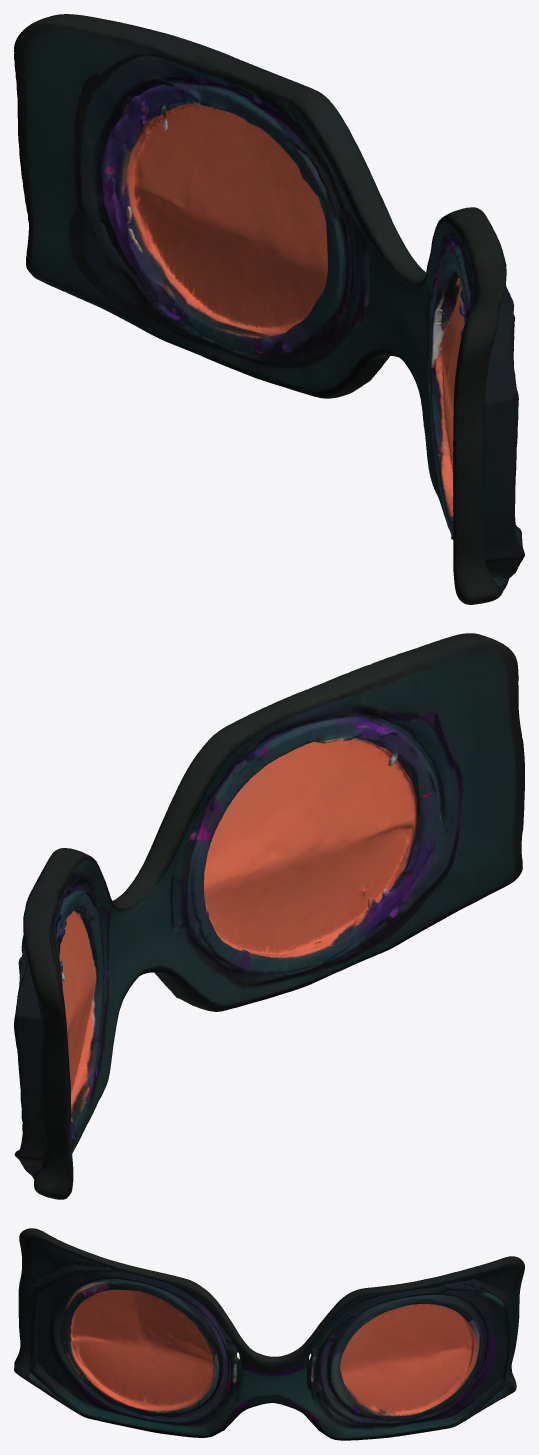
File: 11_015_Mask_Racing-Goggles.glb
3 renders of one model, top to bottom at view 1: azimuth 30°, elevation 25°; view 2: azimuth 150°, elevation 25°; view 3: azimuth 270°, elevation 25°, orthographic. The views are drawn at different scales.
Visible parts, largest first — view 1: tripo_node_8c65464a-2c8e-4d2b-9725-07ba0b6c5772; view 2: tripo_node_8c65464a-2c8e-4d2b-9725-07ba0b6c5772; view 3: tripo_node_8c65464a-2c8e-4d2b-9725-07ba0b6c5772.
Part boxes in pixels (box(x1,y1,x2,y2)): tripo_node_8c65464a-2c8e-4d2b-9725-07ba0b6c5772: box(14, 14, 524, 604); tripo_node_8c65464a-2c8e-4d2b-9725-07ba0b6c5772: box(14, 633, 524, 1199); tripo_node_8c65464a-2c8e-4d2b-9725-07ba0b6c5772: box(14, 1228, 524, 1440).
Size of the model in its own units: 0.2628 by 0.381 by 0.9999.
1 material, 1 textured.
